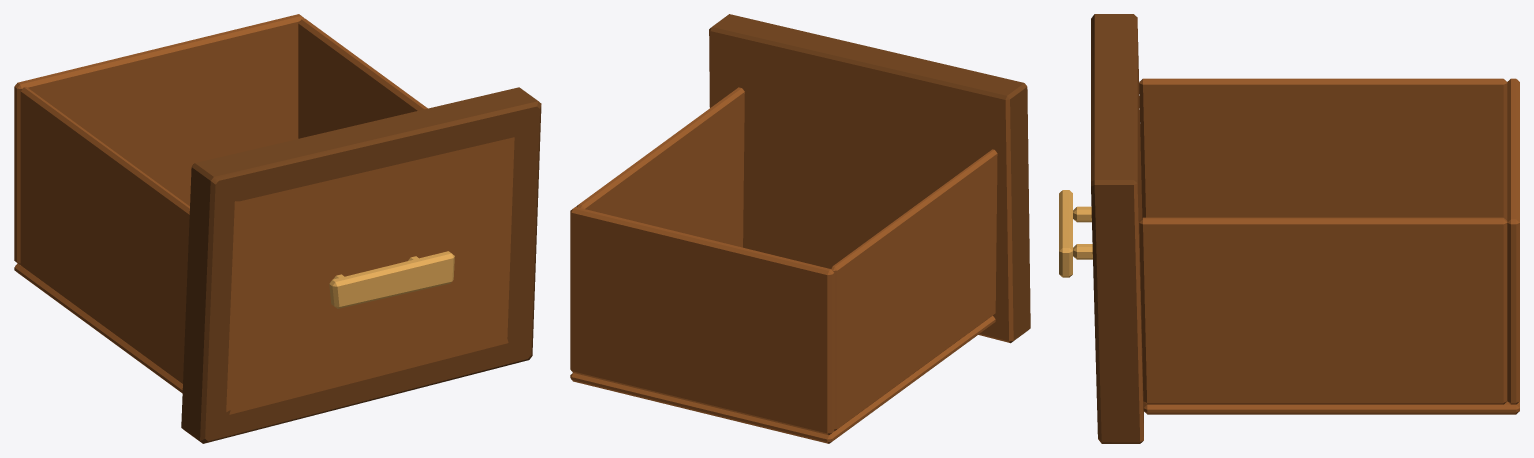
File: File_cabinet_Box_3.fbx
The picture shows the model from 3 angles, left to right: view 1: azimuth 30°, elevation 25°; view 2: azimuth 150°, elevation 25°; view 3: azimuth 270°, elevation 25°; orthographic projection. The views are drawn at different scales.
Parts seen in each view (by area): view 1: File_cabinet_Box_3; view 2: File_cabinet_Box_3; view 3: File_cabinet_Box_3.
Part boxes in pixels (x1=…): File_cabinet_Box_3: x1=14, y1=14, x2=541, y2=443; File_cabinet_Box_3: x1=570, y1=14, x2=1030, y2=443; File_cabinet_Box_3: x1=1059, y1=14, x2=1519, y2=443.
Size of the model in its own units: 0.4553 by 0.345 by 0.5242.
